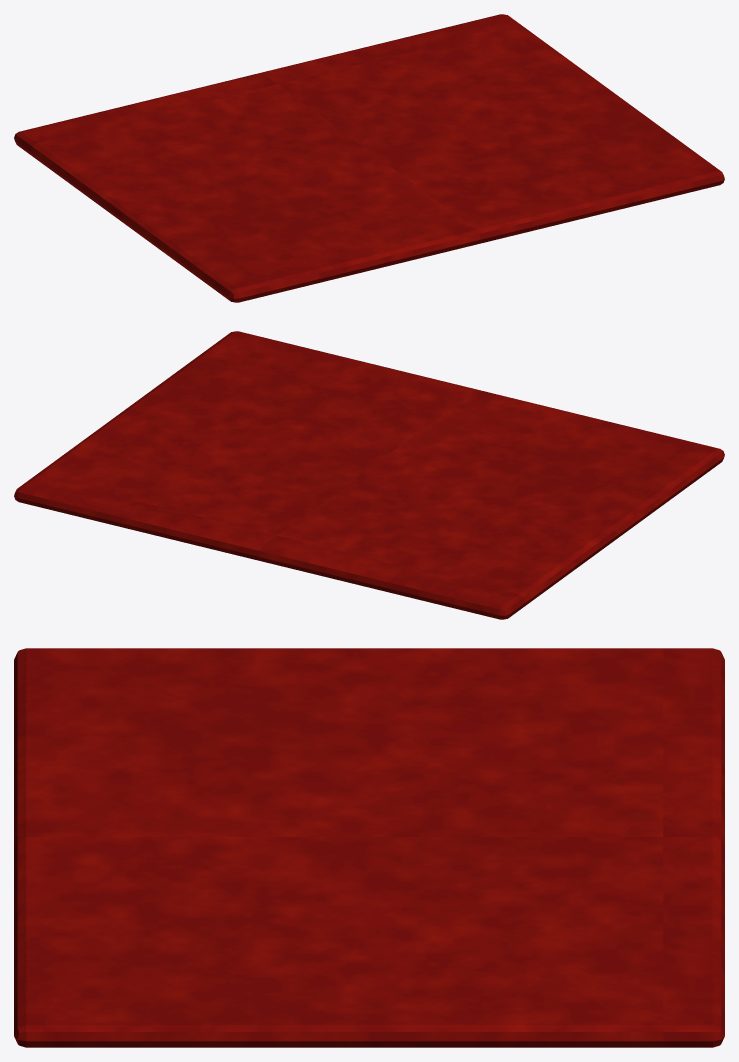
File: Car_Roof.obj
3 views of the same model, one above another, from view 1: azimuth 30°, elevation 25°; view 2: azimuth 150°, elevation 25°; view 3: azimuth 270°, elevation 25° (orthographic). The views are drawn at different scales.
Bounding box in the file's own units: 1.48 × 0.04 × 1.15.
Materials: 1 (1 with a texture image).
